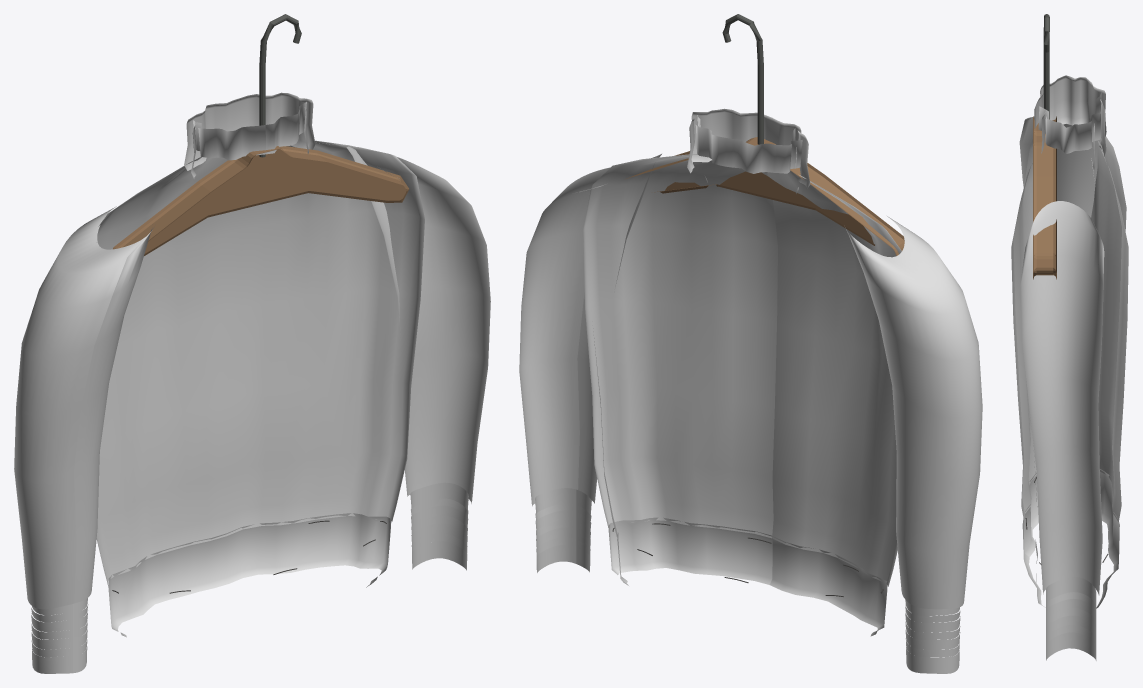
Rendered from sweater.glb.
3 views of the same model, side by side, from view 1: azimuth 30°, elevation 25°; view 2: azimuth 150°, elevation 25°; view 3: azimuth 270°, elevation 25° (orthographic). The views are drawn at different scales.
Parts seen in each view (by area): view 1: sweater; view 2: sweater; view 3: sweater.
Part boxes in pixels (<box>): sweater: <box>14,14,490,673</box>; sweater: <box>519,14,982,673</box>; sweater: <box>1011,14,1128,660</box>.
Size of the model in its own units: 0.686 by 0.8539 by 0.1598.
